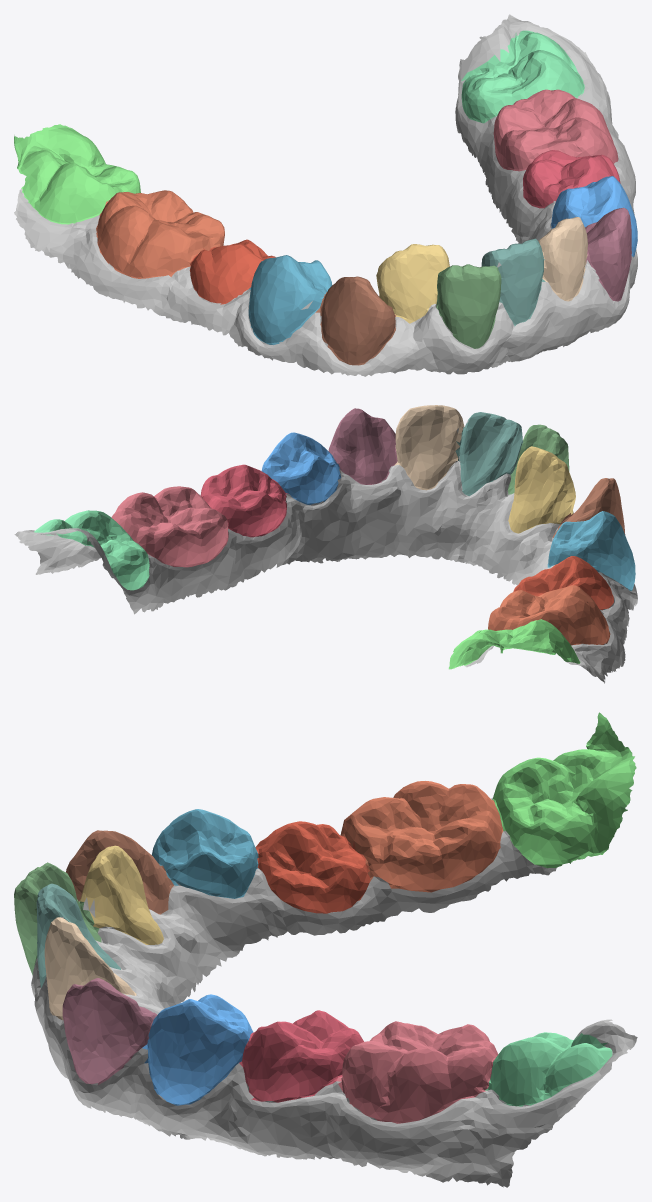
File: ID100022_LOWER.obj
The picture shows the model from 3 angles, top to bottom: view 1: azimuth 30°, elevation 25°; view 2: azimuth 150°, elevation 25°; view 3: azimuth 270°, elevation 25°; orthographic projection. The views are drawn at different scales.
Visible parts, largest first — view 1: pred_ID10022_LOWER; view 2: pred_ID10022_LOWER; view 3: pred_ID10022_LOWER.
Boxes of the visible parts, box(x1,y1,x2,y2) form: pred_ID10022_LOWER: box(14, 14, 637, 376); pred_ID10022_LOWER: box(14, 405, 637, 683); pred_ID10022_LOWER: box(14, 712, 637, 1187).
Size of the model in its own units: 64.81 by 13.84 by 48.51.
